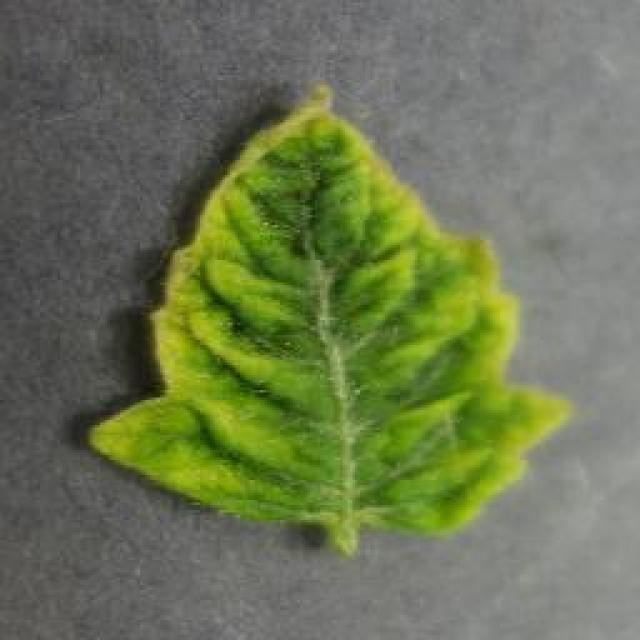Tom_Yellow_Leaf_Curl_Virus: (131, 126, 539, 522)
